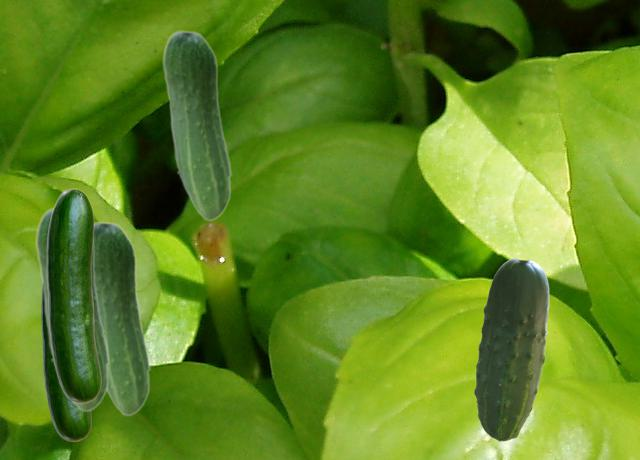cucumber: (35, 207, 109, 411), (474, 258, 548, 440), (162, 29, 231, 220), (46, 188, 100, 402), (95, 220, 150, 415), (41, 286, 90, 440)
